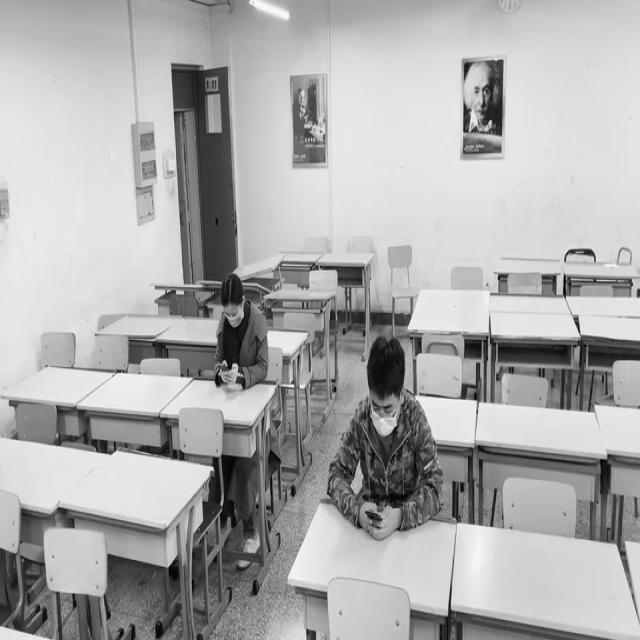phone: (335, 336, 436, 533), (214, 280, 268, 385)
